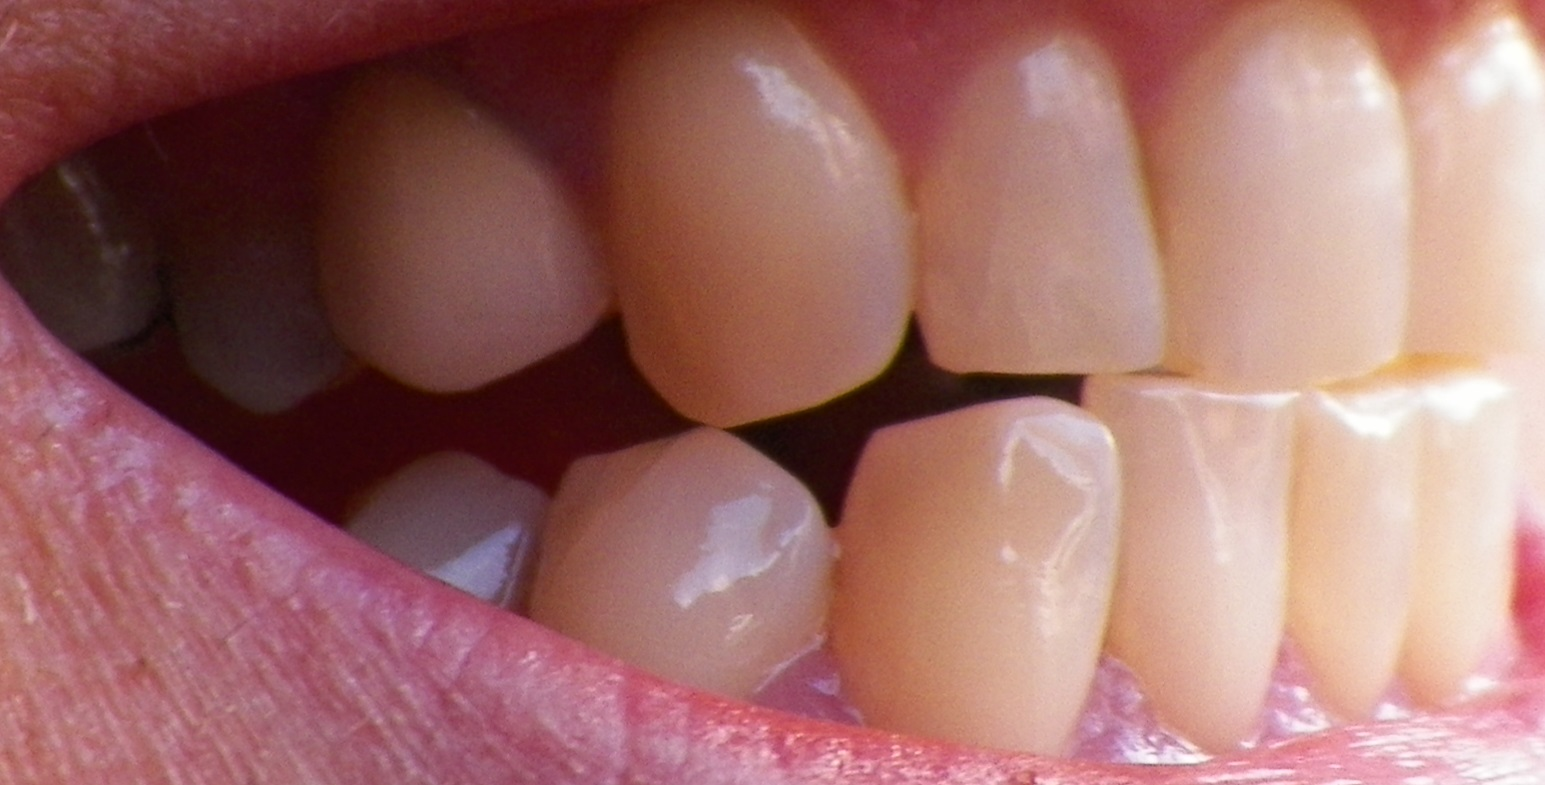boca: (28, 44, 1532, 712)
